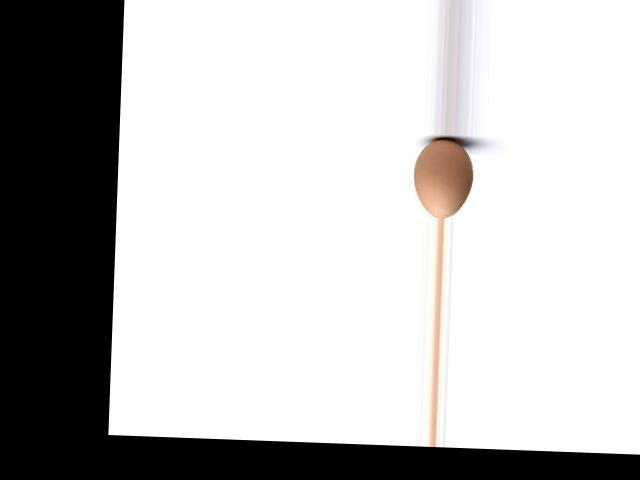egg: (412, 137, 473, 218)
